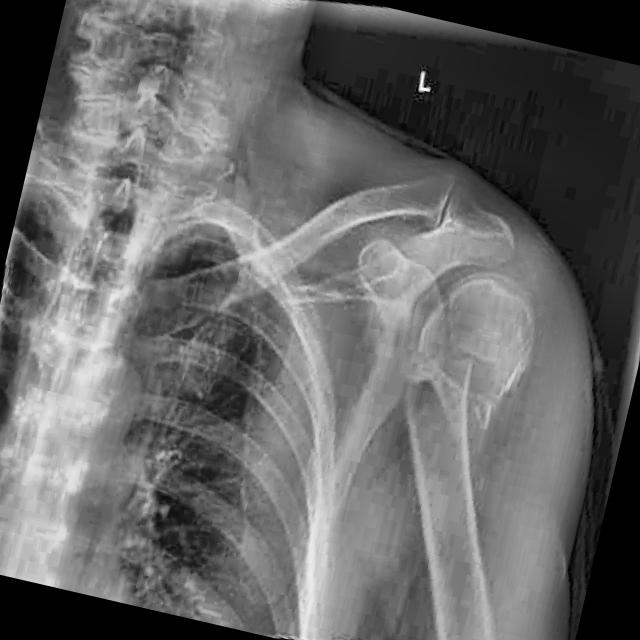shoulder fracture: (421, 314, 501, 435)
